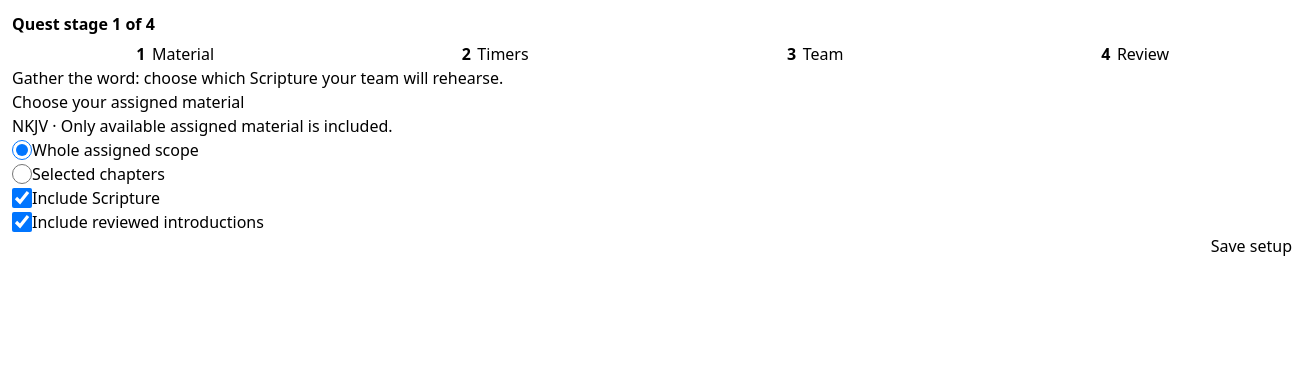
Test: Simulation setup › explains that full-event team rehearsals count toward Simulation honors
This screenshot has width=1304, height=369.
Click the tab "4 Review".
click(1132, 54)  # box [972,42,1292,66]
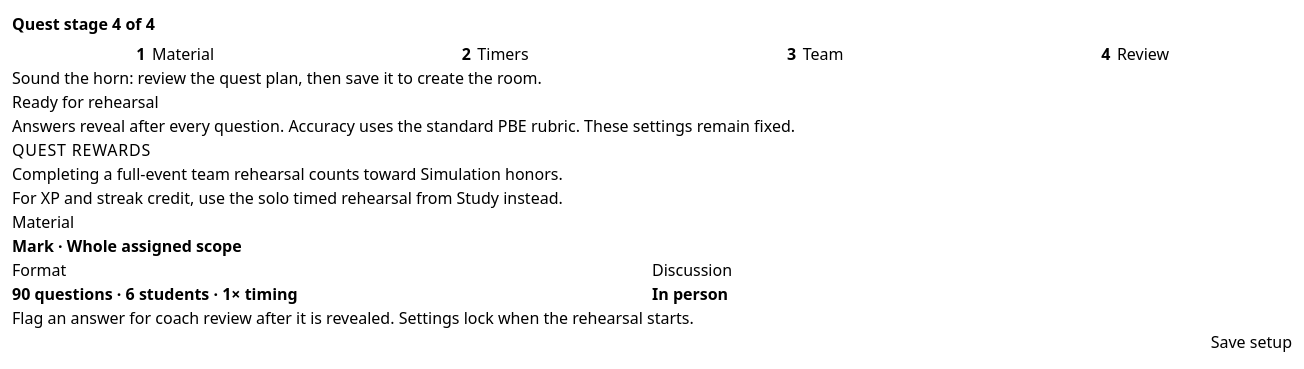
Expected: the text "counts toward Simulation honors" is shown, [12,163,563,185]
Expected: the text "For XP and streak credit, use the solo timed rehearsal from Study instead" is shown, [12,187,563,209]
